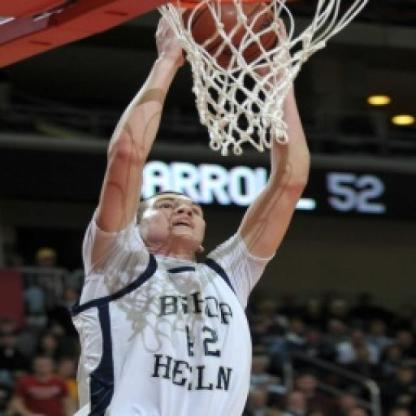basketball: (179, 0, 281, 68)
